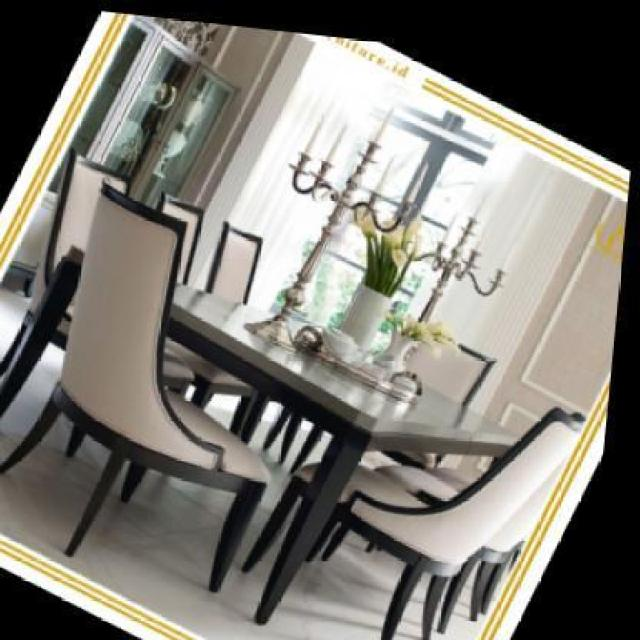tables: (42, 262, 524, 629)
